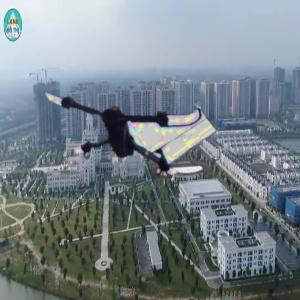drone: (44, 50, 195, 201)
